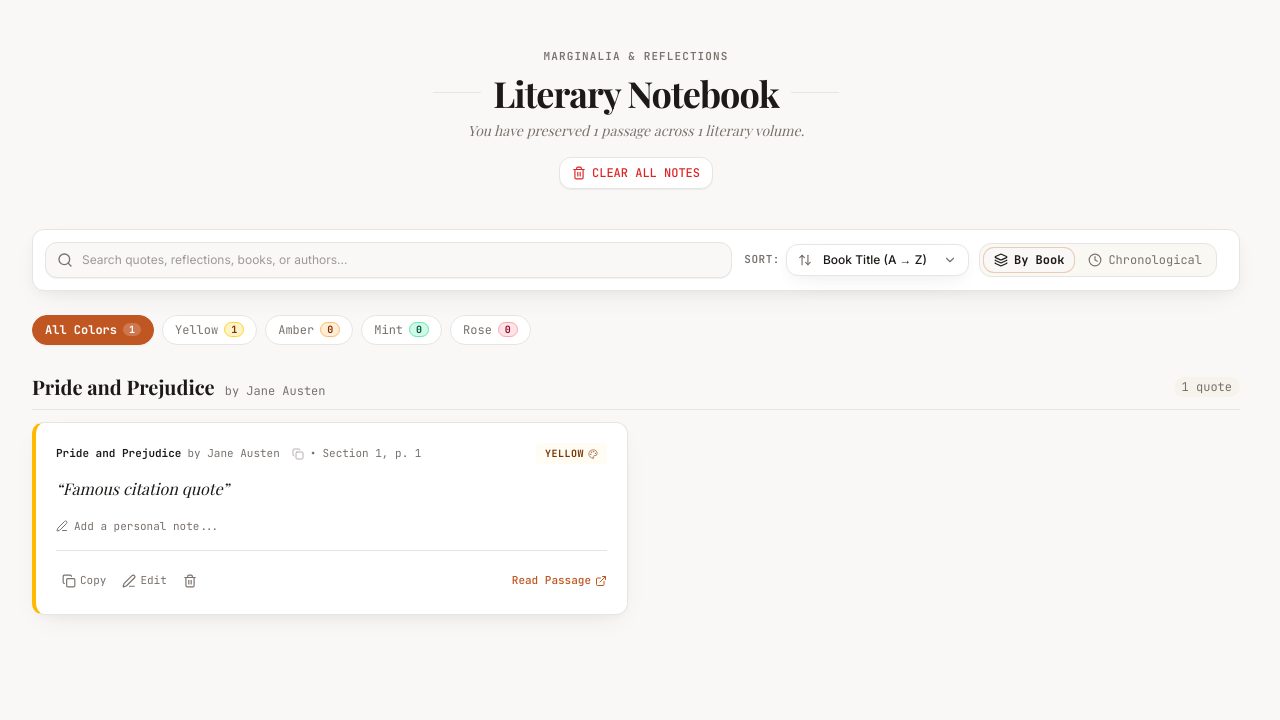
NotebookView component › allows copying quote with formatted academic citation
The width and height of the screenshot is (1280, 720).
Click the button "Copy" at [84, 580], box [56,567,112,594]
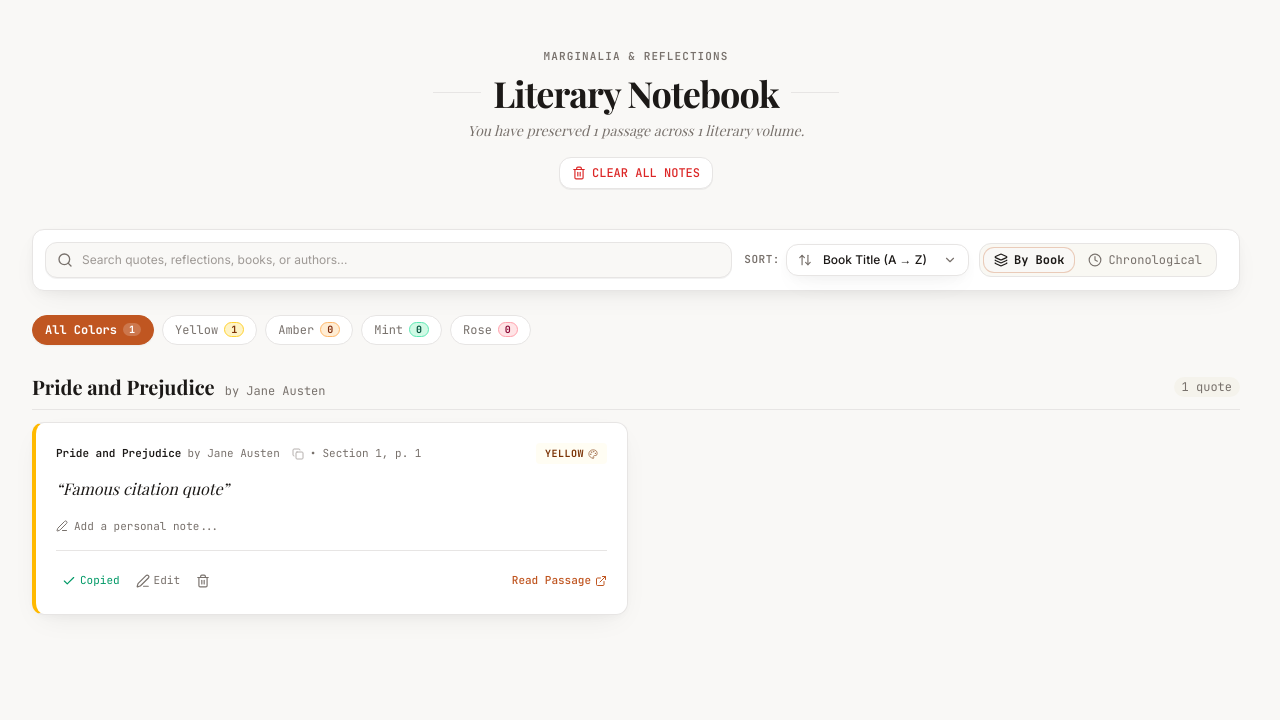
Result: the text "Copied" is shown at [80,573,120,588]
